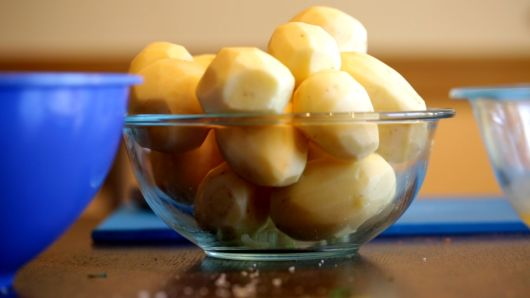boiled potatoes: (126, 2, 425, 236)
